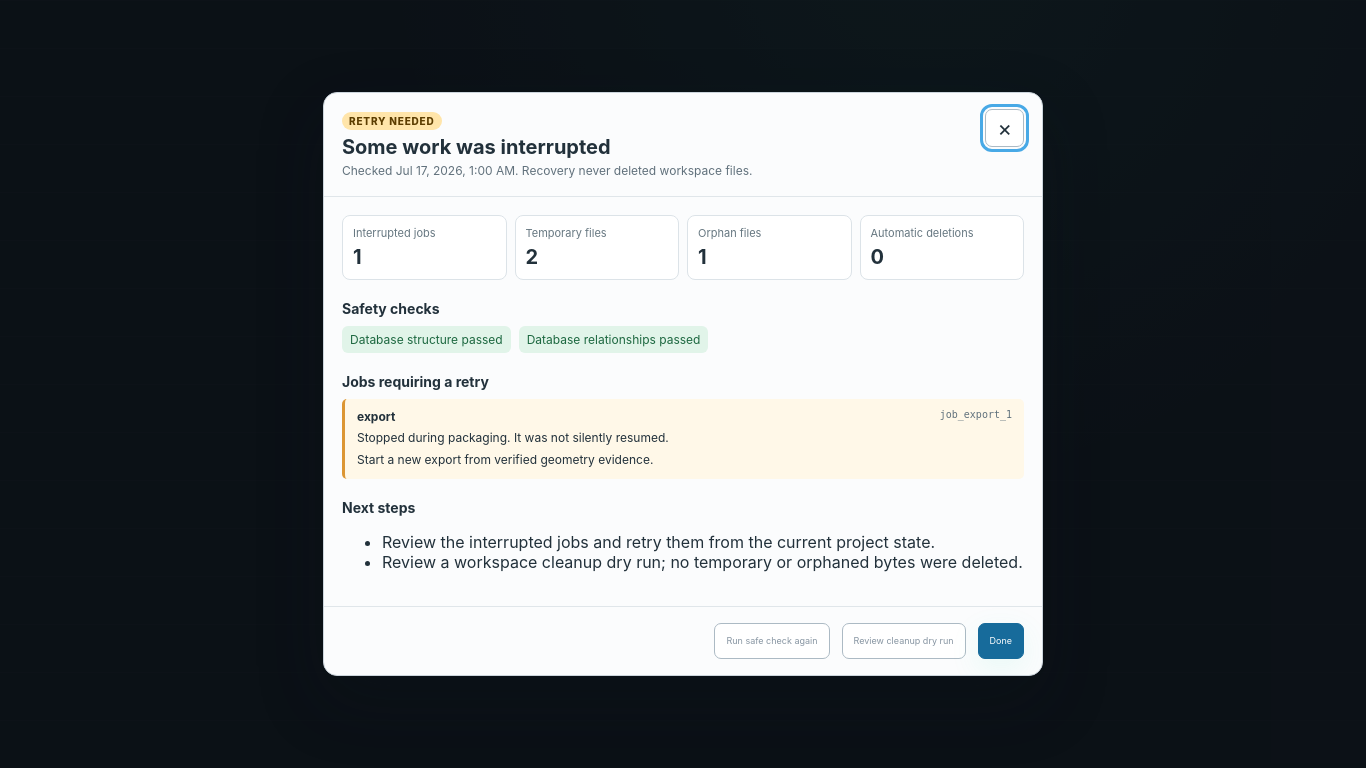
Test: WorkspaceRecoveryPanel › keeps the exact report visible when a safe recheck fails
Click the button "Run safe check again". click: (772, 641)
box: [714, 623, 830, 659]
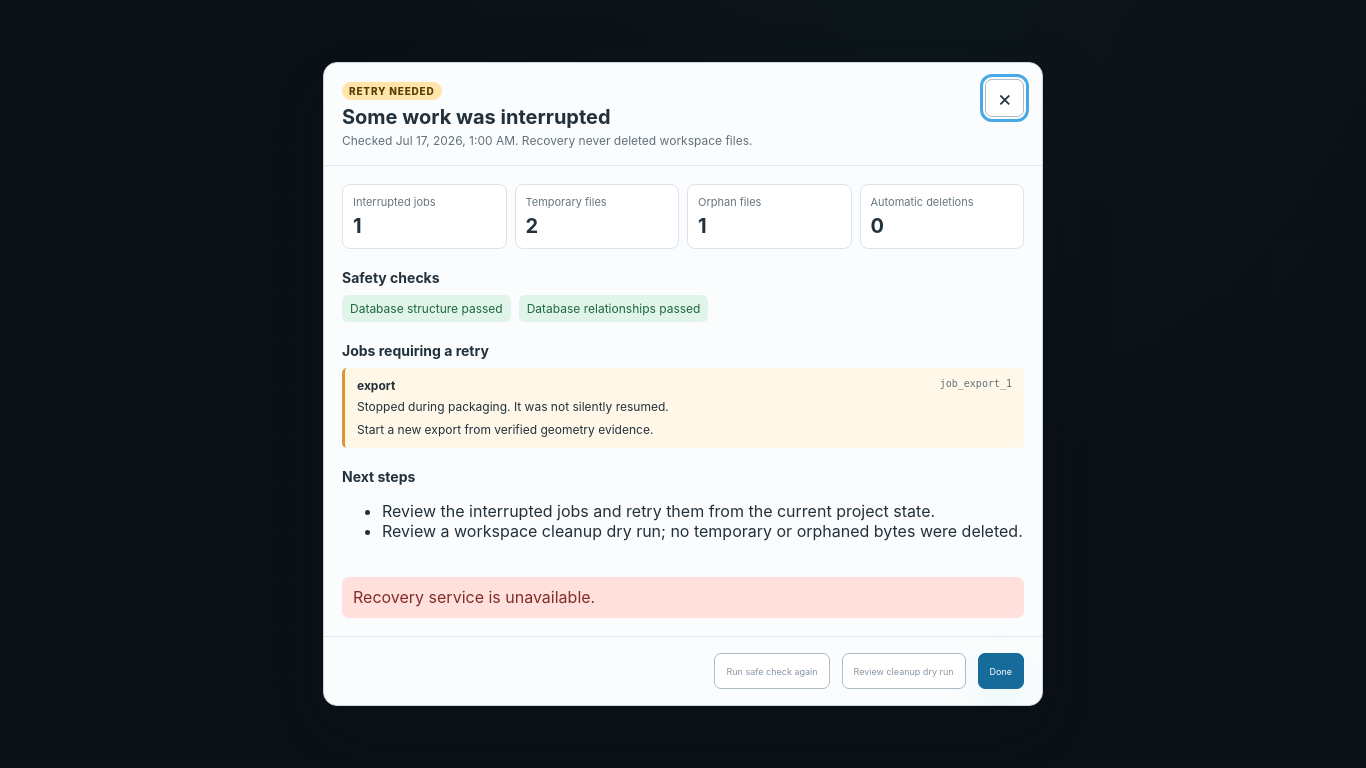
Expected: the text "job_export_1" is shown, [940, 378, 1012, 393]
Expected: the message reads "Recovery service is unavailable.", [353, 587, 595, 607]
